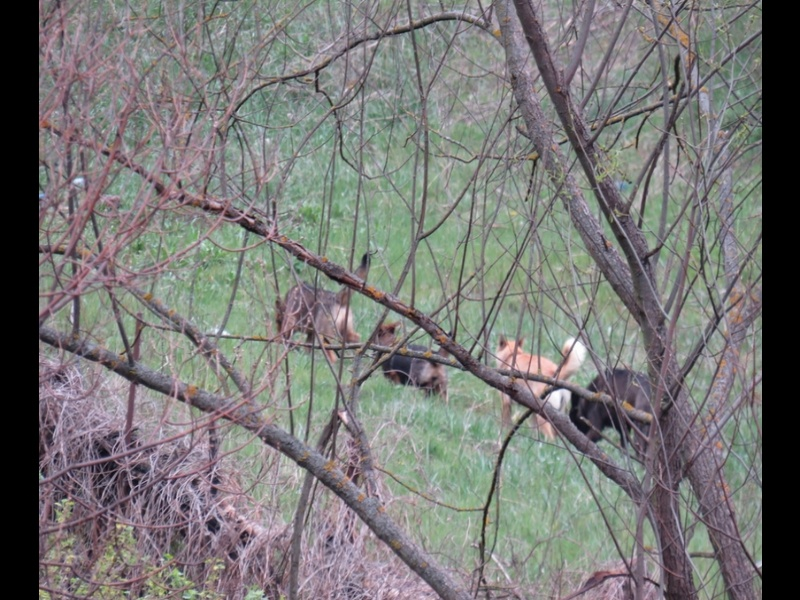dog: (490, 329, 579, 444), (272, 256, 364, 365), (564, 365, 658, 458), (376, 326, 454, 399)
